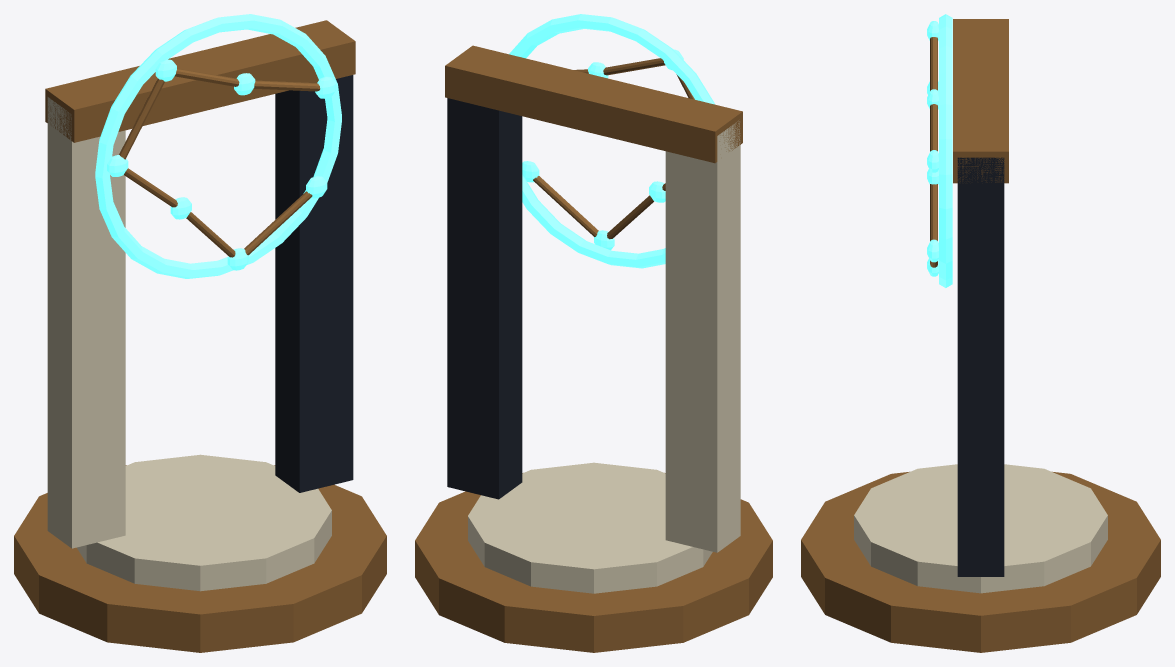
File: runtime.glb
3 renders of one model, left to right at view 1: azimuth 30°, elevation 25°; view 2: azimuth 150°, elevation 25°; view 3: azimuth 270°, elevation 25°, orthographic. The views are drawn at different scales.
Visible parts, largest first — view 1: aetherion-zodiac-stele-v10_left_pier_nocol, aetherion-zodiac-stele-v10_right_pier_nocol, aetherion-zodiac-stele-v10_foot_nocol, aetherion-zodiac-stele-v10_plinth_nocol, aetherion-zodiac-stele-v10_lintel_nocol, aetherion-zodiac-stele-v10_primary_orbit_nocol, aetherion-zodiac-stele-v10_constellation_link_02_nocol, aetherion-zodiac-stele-v10_constellation_link_05_nocol, aetherion-zodiac-stele-v10_constellation_link_00_nocol, aetherion-zodiac-stele-v10_constellation_link_01_nocol; view 2: aetherion-zodiac-stele-v10_left_pier_nocol, aetherion-zodiac-stele-v10_right_pier_nocol, aetherion-zodiac-stele-v10_foot_nocol, aetherion-zodiac-stele-v10_plinth_nocol, aetherion-zodiac-stele-v10_lintel_nocol, aetherion-zodiac-stele-v10_primary_orbit_nocol, aetherion-zodiac-stele-v10_constellation_link_05_nocol, aetherion-zodiac-stele-v10_constellation_link_01_nocol; view 3: aetherion-zodiac-stele-v10_foot_nocol, aetherion-zodiac-stele-v10_plinth_nocol, aetherion-zodiac-stele-v10_right_pier_nocol, aetherion-zodiac-stele-v10_lintel_nocol, aetherion-zodiac-stele-v10_primary_orbit_nocol.
Boxes of the visible parts, left/top/right/bottom form: aetherion-zodiac-stele-v10_left_pier_nocol: left=47, top=97, right=125, bottom=548; aetherion-zodiac-stele-v10_right_pier_nocol: left=275, top=75, right=353, bottom=492; aetherion-zodiac-stele-v10_foot_nocol: left=14, top=465, right=386, bottom=652; aetherion-zodiac-stele-v10_plinth_nocol: left=77, top=454, right=331, bottom=591; aetherion-zodiac-stele-v10_lintel_nocol: left=45, top=20, right=355, bottom=142; aetherion-zodiac-stele-v10_primary_orbit_nocol: left=95, top=14, right=341, bottom=278; aetherion-zodiac-stele-v10_constellation_link_02_nocol: left=119, top=78, right=164, bottom=159; aetherion-zodiac-stele-v10_constellation_link_05_nocol: left=244, top=191, right=312, bottom=255; aetherion-zodiac-stele-v10_constellation_link_00_nocol: left=253, top=80, right=320, bottom=91; aetherion-zodiac-stele-v10_constellation_link_01_nocol: left=175, top=68, right=239, bottom=86; aetherion-zodiac-stele-v10_left_pier_nocol: left=665, top=120, right=740, bottom=552; aetherion-zodiac-stele-v10_right_pier_nocol: left=447, top=98, right=522, bottom=499; aetherion-zodiac-stele-v10_foot_nocol: left=415, top=473, right=772, bottom=652; aetherion-zodiac-stele-v10_plinth_nocol: left=468, top=462, right=712, bottom=593; aetherion-zodiac-stele-v10_lintel_nocol: left=445, top=45, right=742, bottom=163; aetherion-zodiac-stele-v10_primary_orbit_nocol: left=509, top=14, right=714, bottom=268; aetherion-zodiac-stele-v10_constellation_link_05_nocol: left=533, top=176, right=598, bottom=236; aetherion-zodiac-stele-v10_constellation_link_01_nocol: left=603, top=58, right=665, bottom=75; aetherion-zodiac-stele-v10_foot_nocol: left=801, top=471, right=1160, bottom=652; aetherion-zodiac-stele-v10_plinth_nocol: left=854, top=464, right=1107, bottom=593; aetherion-zodiac-stele-v10_right_pier_nocol: left=957, top=157, right=1004, bottom=576; aetherion-zodiac-stele-v10_lintel_nocol: left=953, top=19, right=1008, bottom=183; aetherion-zodiac-stele-v10_primary_orbit_nocol: left=939, top=14, right=952, bottom=287.
Bounding box in the file's own units: 4.91 × 8.29 × 4.91.
